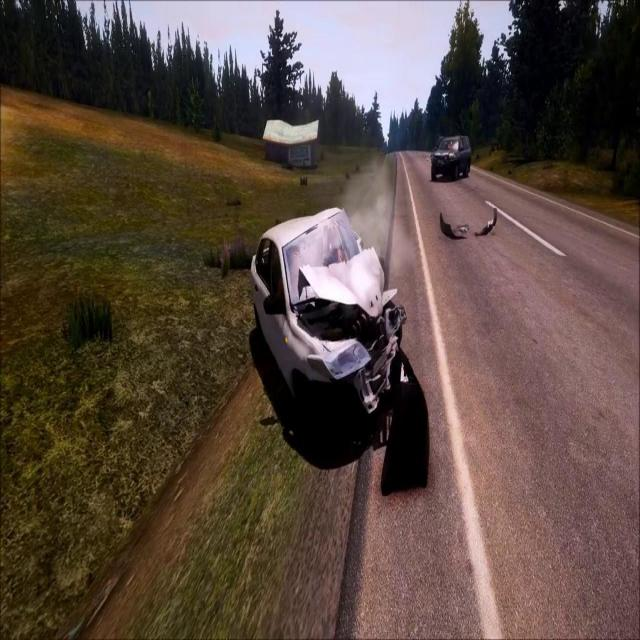accident: (248, 198, 408, 439)
